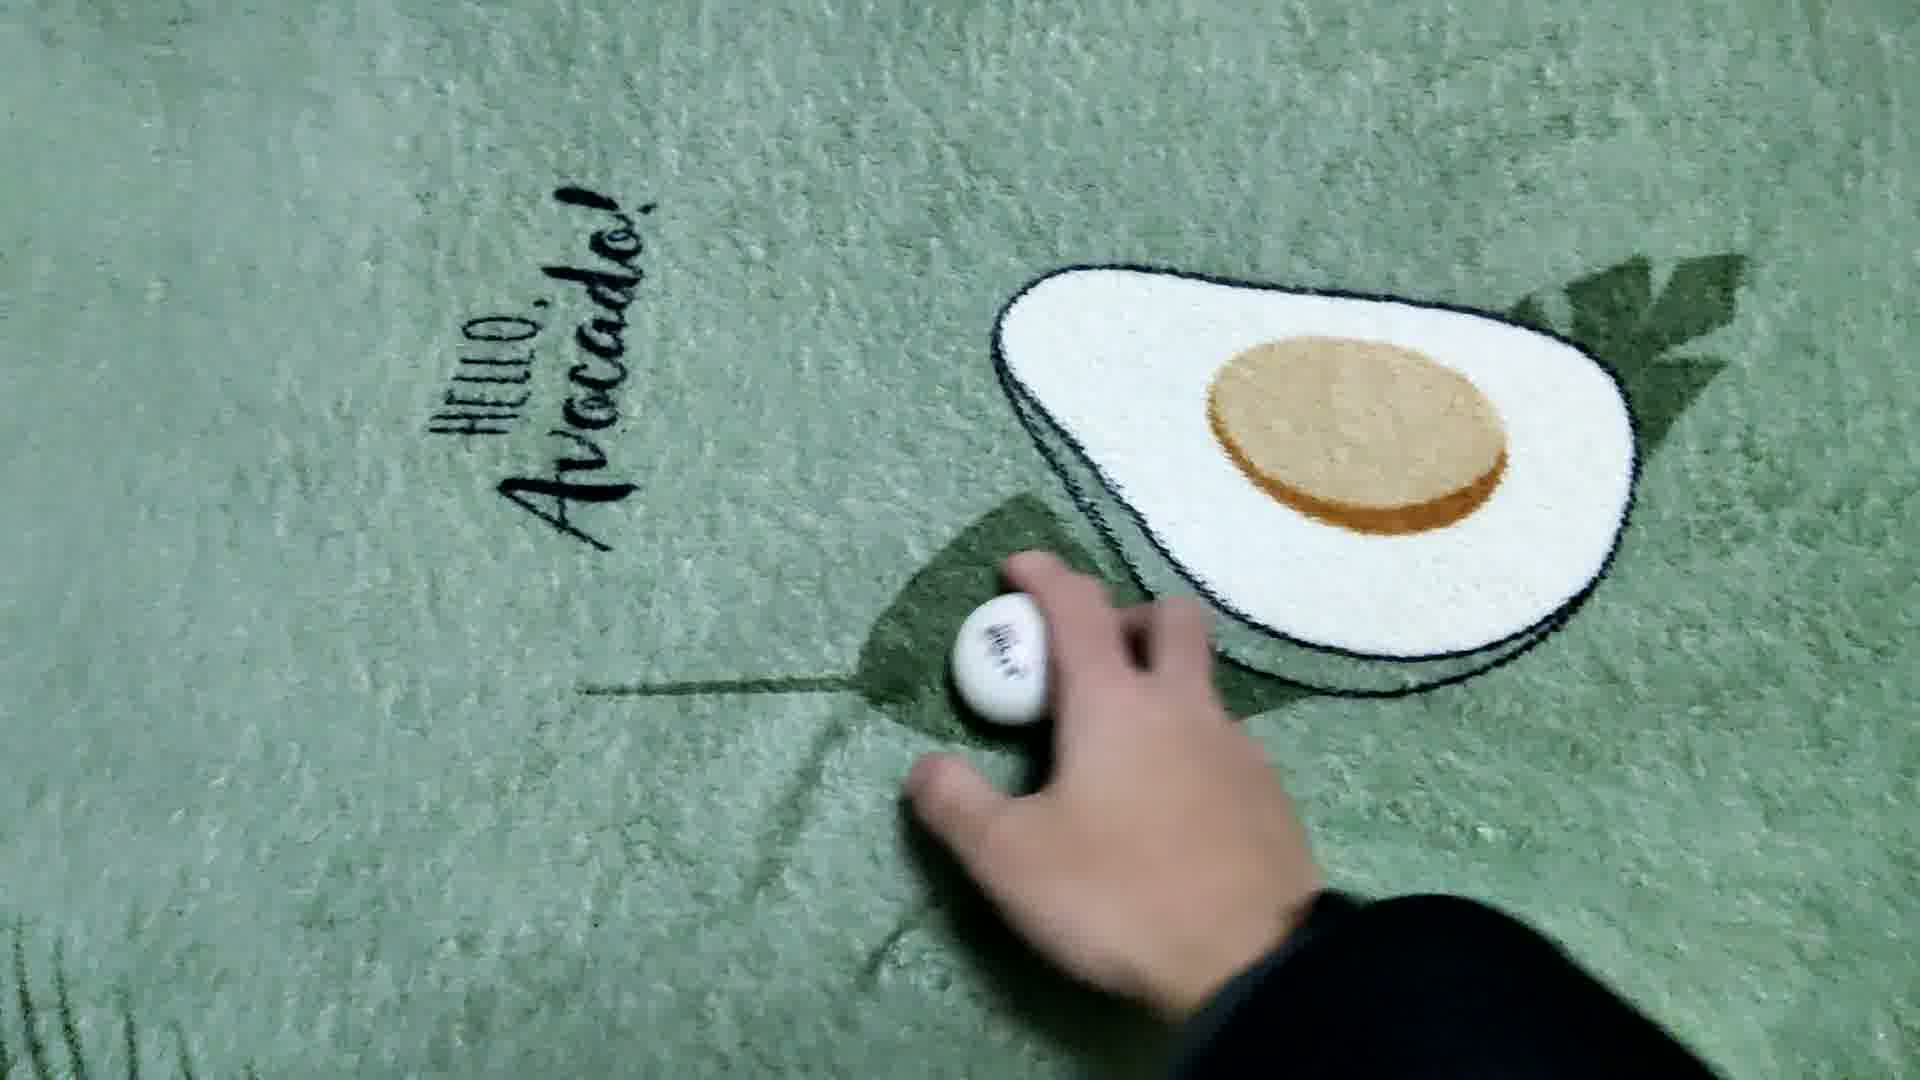Ball: (949, 592, 1085, 719)
